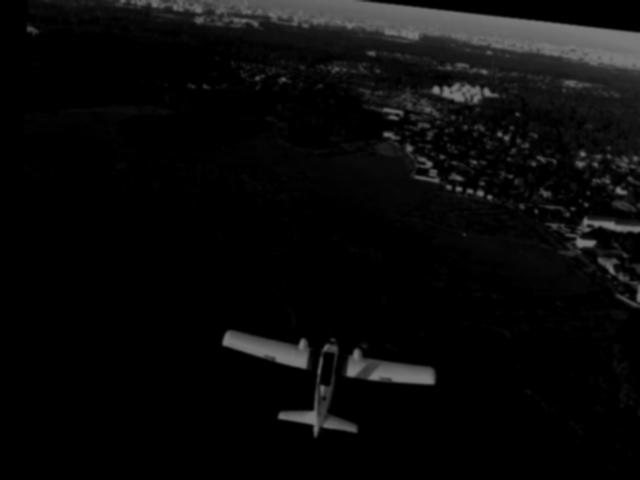hedef: (181, 297, 451, 463)
